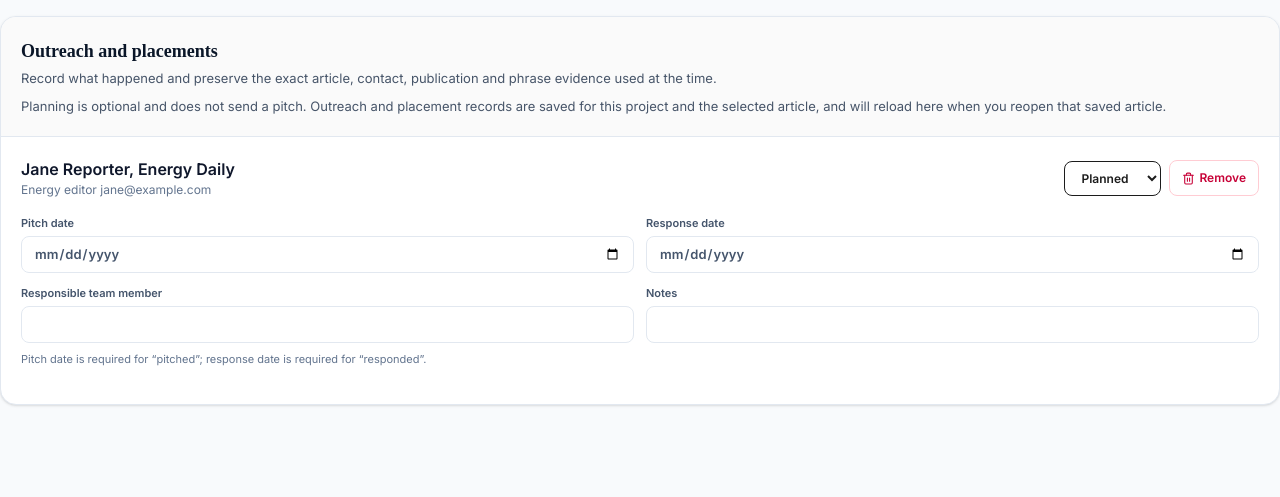
MediaOutreachPanel › keeps mutation errors visible without announcing a save
The width and height of the screenshot is (1280, 497).
Type "Unconfirmed note" into the field labelled "Notes" at point(952, 324), box [646,306,1259,343]
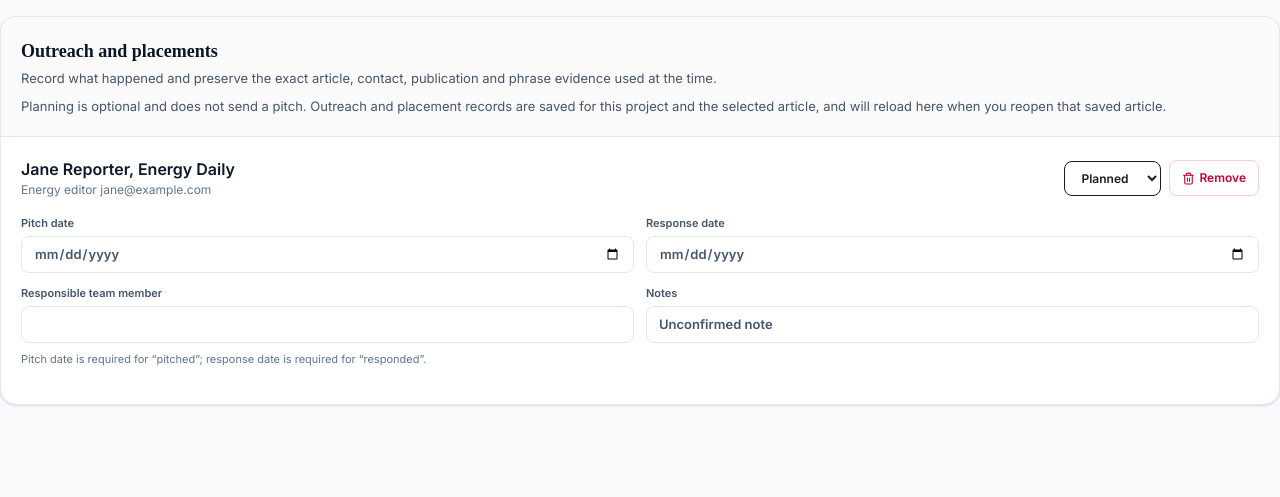
Leave the field labelled "Notes", box [646,306,1259,343]
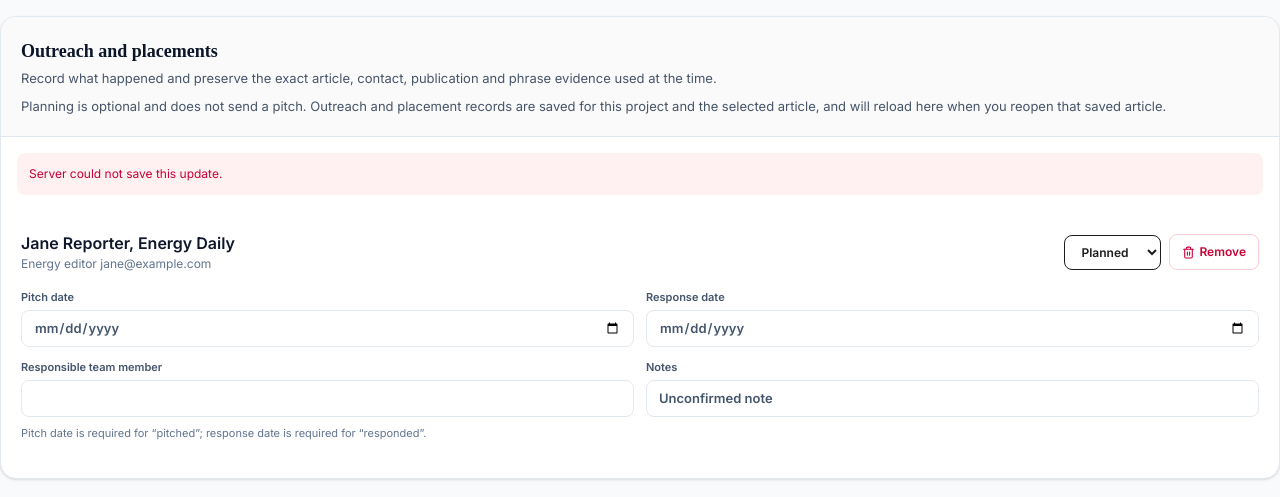
Check: the message reads "Server could not save this update.", box [29,166,222,181]
